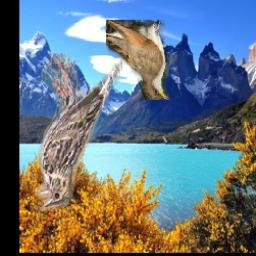Cuckoo: (106, 21, 169, 101)
Sparrow: (35, 53, 122, 211)
